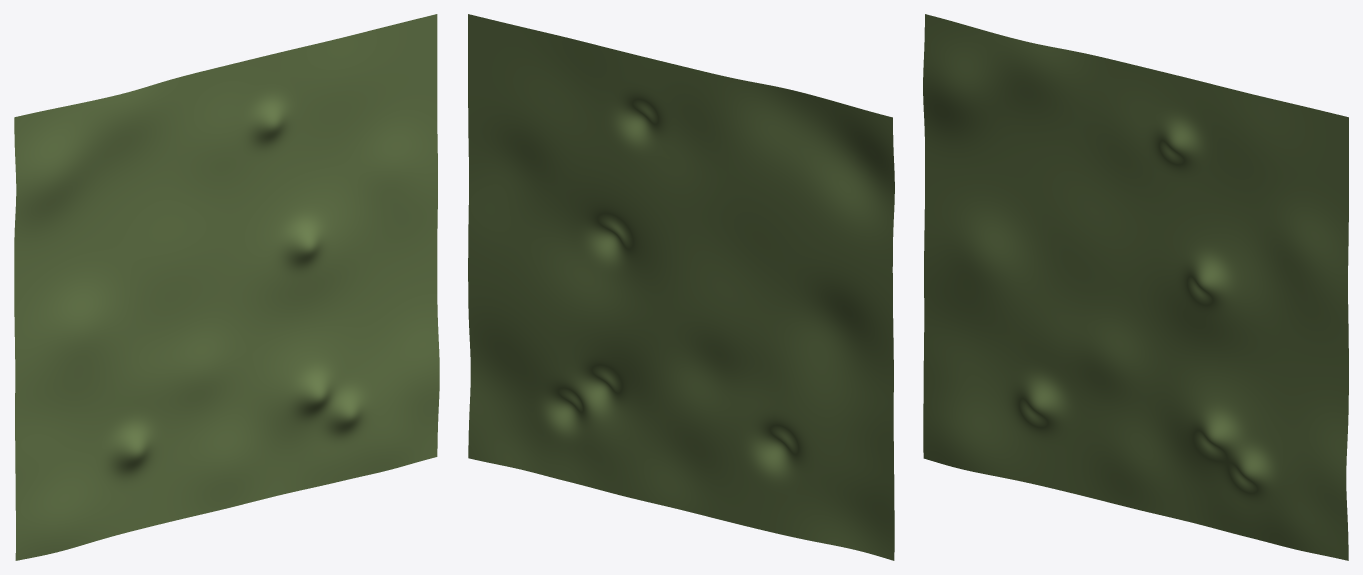
Rendered from terrain.obj.
The picture shows the model from 3 angles, left to right: view 1: azimuth 30°, elevation 25°; view 2: azimuth 150°, elevation 25°; view 3: azimuth 330°, elevation 25°; orthographic projection.
Size of the model in its own units: 80 by 80 by 3.26.
